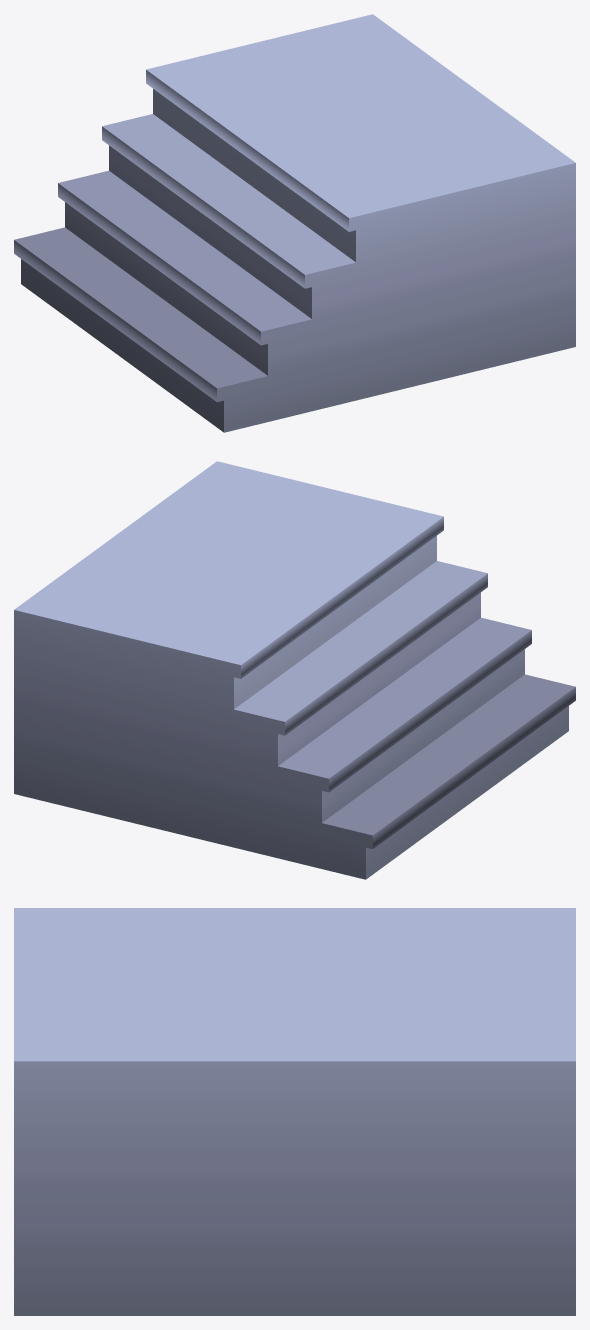
The model's file is stairs-full.glb.
3 renders of one model, top to bottom at view 1: azimuth 30°, elevation 25°; view 2: azimuth 150°, elevation 25°; view 3: azimuth 270°, elevation 25°, orthographic. The views are drawn at different scales.
Visible parts, largest first — view 1: stairs-full; view 2: stairs-full; view 3: stairs-full.
Boxes of the visible parts, x1,y1,x2,y2 form: stairs-full: [14, 14, 575, 432]; stairs-full: [14, 461, 575, 879]; stairs-full: [14, 908, 575, 1315].
Bounding box in the file's own units: 1.02 × 0.5 × 1.
Materials: 1 (1 with a texture image).
